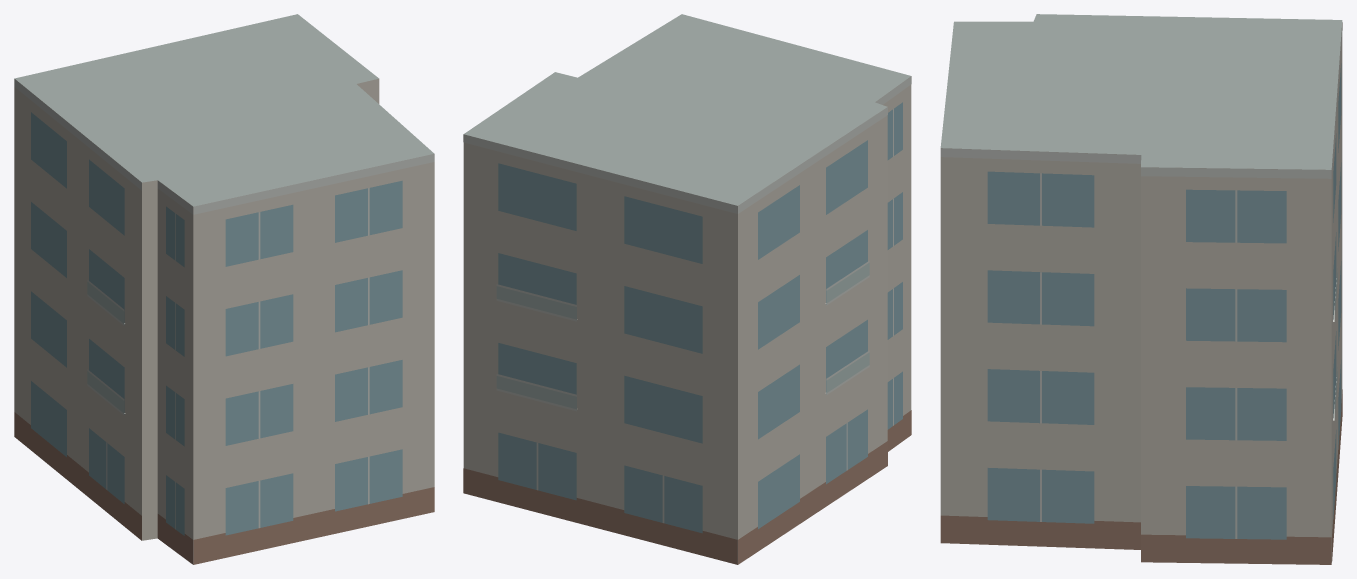
File: survey-upis-33019216.glb
3 views of the same model, side by side, from view 1: azimuth 30°, elevation 25°; view 2: azimuth 150°, elevation 25°; view 3: azimuth 270°, elevation 25° (orthographic). The views are drawn at different scales.
Parts seen in each view (by area): view 1: survey-upis-33019216.tmp; view 2: survey-upis-33019216.tmp; view 3: survey-upis-33019216.tmp.
Boxes of the visible parts, box(x1,y1,x2,y2) form: survey-upis-33019216.tmp: box(14, 14, 434, 564); survey-upis-33019216.tmp: box(463, 14, 911, 564); survey-upis-33019216.tmp: box(940, 14, 1342, 564).
Size of the model in its own units: 9.06 by 10.7 by 9.88.
